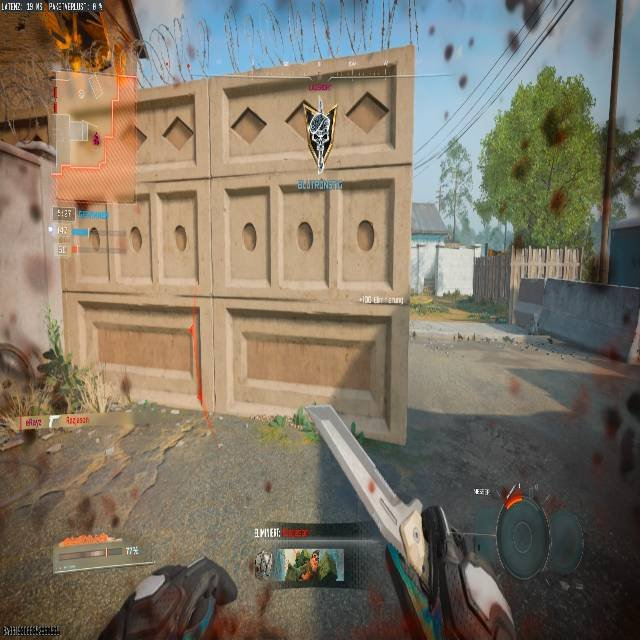player: (88, 226, 100, 251)
